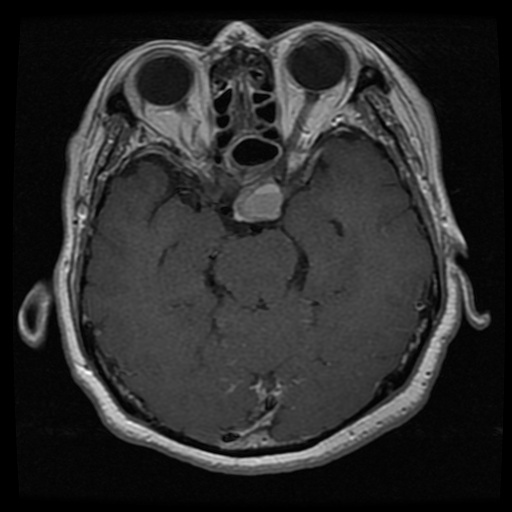pituitary: (235, 186, 282, 221)
